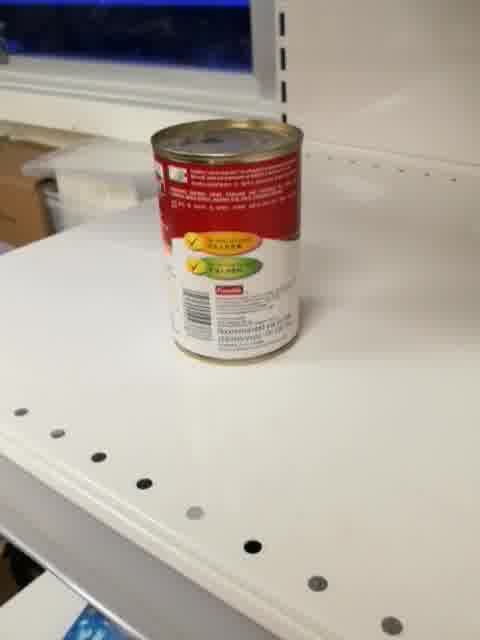tomatosoup: (148, 111, 308, 367)
